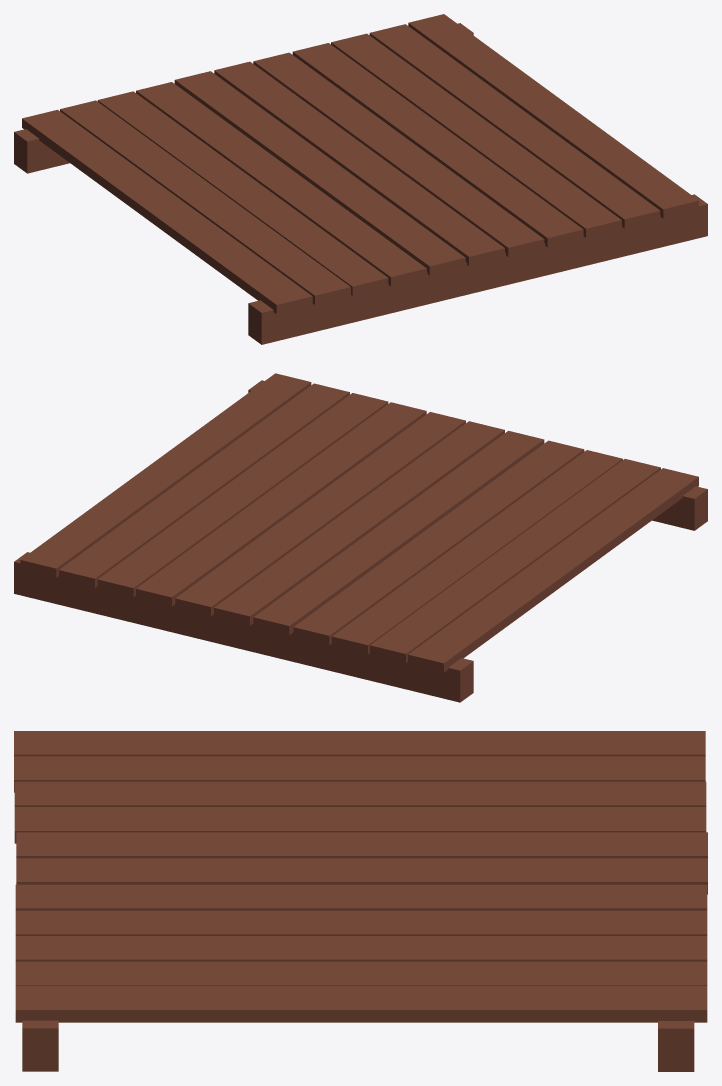
The model's file is MovingPlatform.fbx.
3 renders of one model, top to bottom at view 1: azimuth 30°, elevation 25°; view 2: azimuth 150°, elevation 25°; view 3: azimuth 270°, elevation 25°, orthographic. The views are drawn at different scales.
Parts seen in each view (by area): view 1: RealMovingPlatform; view 2: RealMovingPlatform; view 3: RealMovingPlatform.
Boxes of the visible parts, <box> form: RealMovingPlatform: <box>14,14,707,344</box>; RealMovingPlatform: <box>14,373,707,702</box>; RealMovingPlatform: <box>14,731,707,1071</box>.
Size of the model in its own units: 802 by 69.1 by 797.
